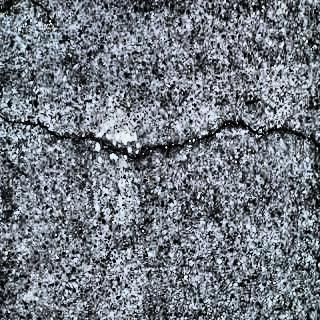crack: (3, 105, 320, 177)
